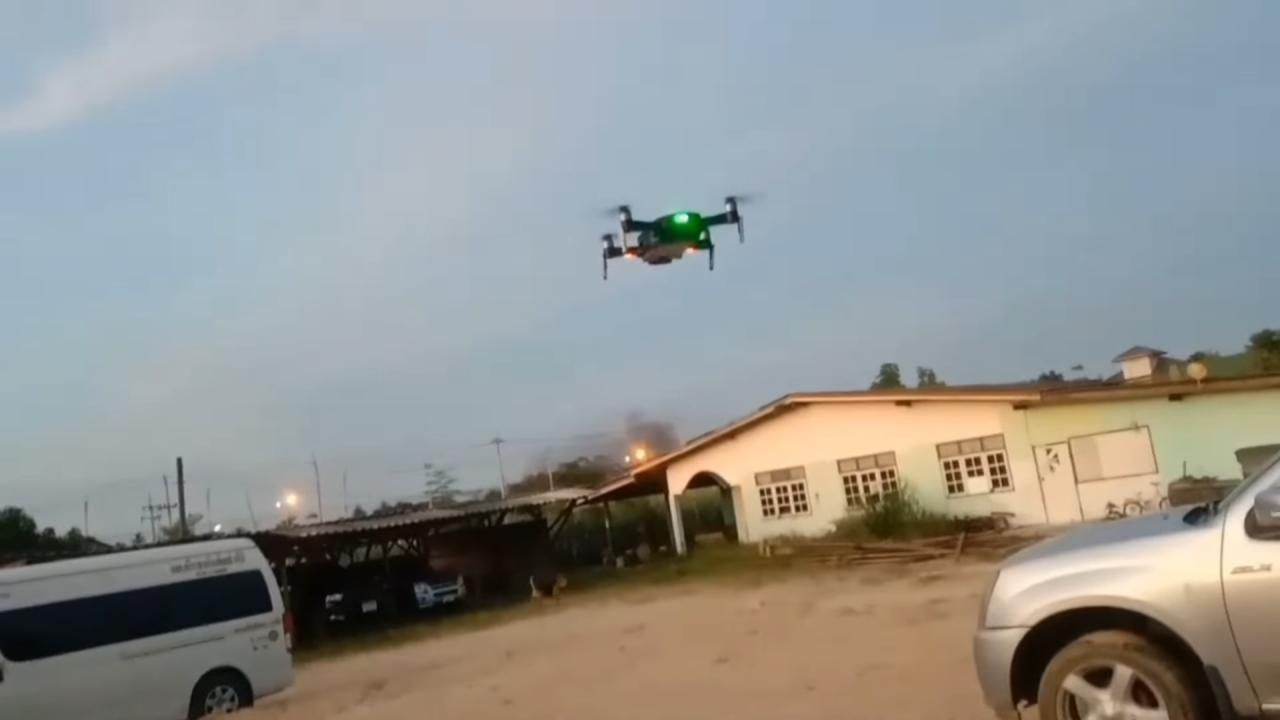Drone: (585, 180, 756, 288)
